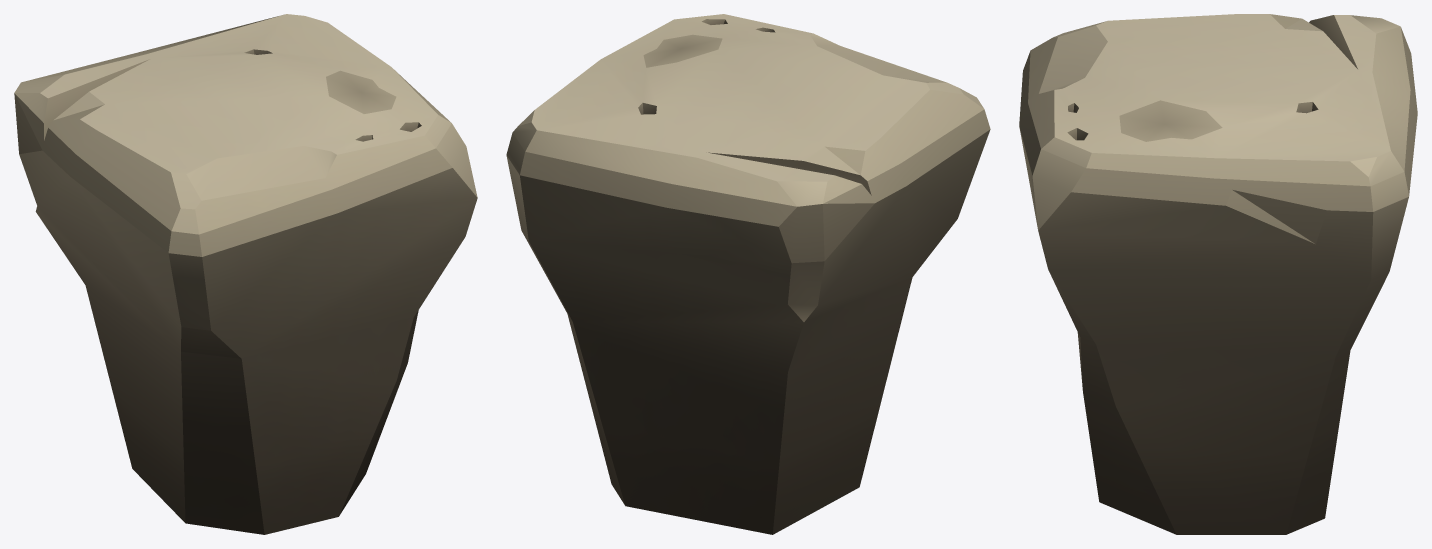
Rendered from Anvil_1A.fbx.
The picture shows the model from 3 angles, left to right: view 1: azimuth 30°, elevation 25°; view 2: azimuth 150°, elevation 25°; view 3: azimuth 270°, elevation 25°; orthographic projection. The views are drawn at different scales.
Parts seen in each view (by area): view 1: Anvil_1A; view 2: Anvil_1A; view 3: Anvil_1A.
Boxes of the visible parts, left/top/right/bottom form: Anvil_1A: left=14, top=14, right=477, bottom=534; Anvil_1A: left=506, top=14, right=990, bottom=534; Anvil_1A: left=1019, top=14, right=1417, bottom=534.
Bounding box in the file's own units: 0.5251 × 0.5995 × 0.5259.
